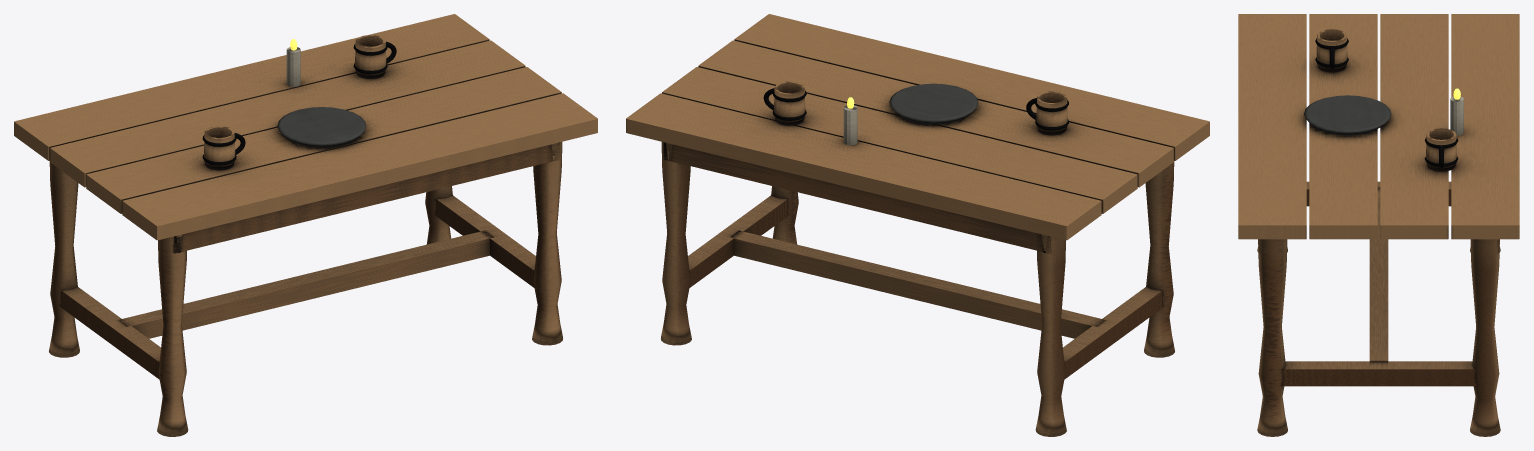
The model's file is movel_mesa.glb.
3 renders of one model, left to right at view 1: azimuth 30°, elevation 25°; view 2: azimuth 150°, elevation 25°; view 3: azimuth 270°, elevation 25°, orthographic.
Parts seen in each view (by area): view 1: movel_mesa; view 2: movel_mesa; view 3: movel_mesa.
Boxes of the visible parts, box(x1,y1,x2,y2) form: movel_mesa: box(14, 14, 597, 436); movel_mesa: box(626, 14, 1209, 436); movel_mesa: box(1238, 14, 1519, 436).
Bounding box in the file's own units: 1.6 × 0.9366 × 0.9.
Materials: 2 (1 with a texture image).
